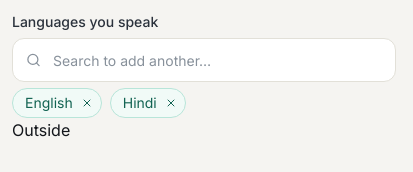
Test case: LanguageMultiSelect — selection › removes a language when its chip's remove button is clicked
Click the button named "Remove English": (87, 103) [79,95,95,111]
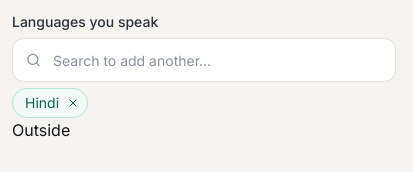
Expected: the text "Hindi" is shown, [12,88,88,118]
Expected: the text "English" is gone
